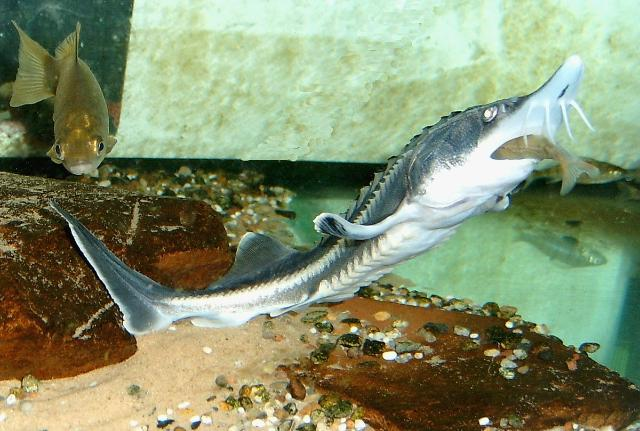Mulut: (484, 121, 564, 176)
Sirip Anal: (190, 304, 256, 339)
Sirip Dada: (310, 195, 438, 247)
Sirip Ekor: (23, 189, 193, 355)
Sirip Punggung: (202, 216, 302, 292)
